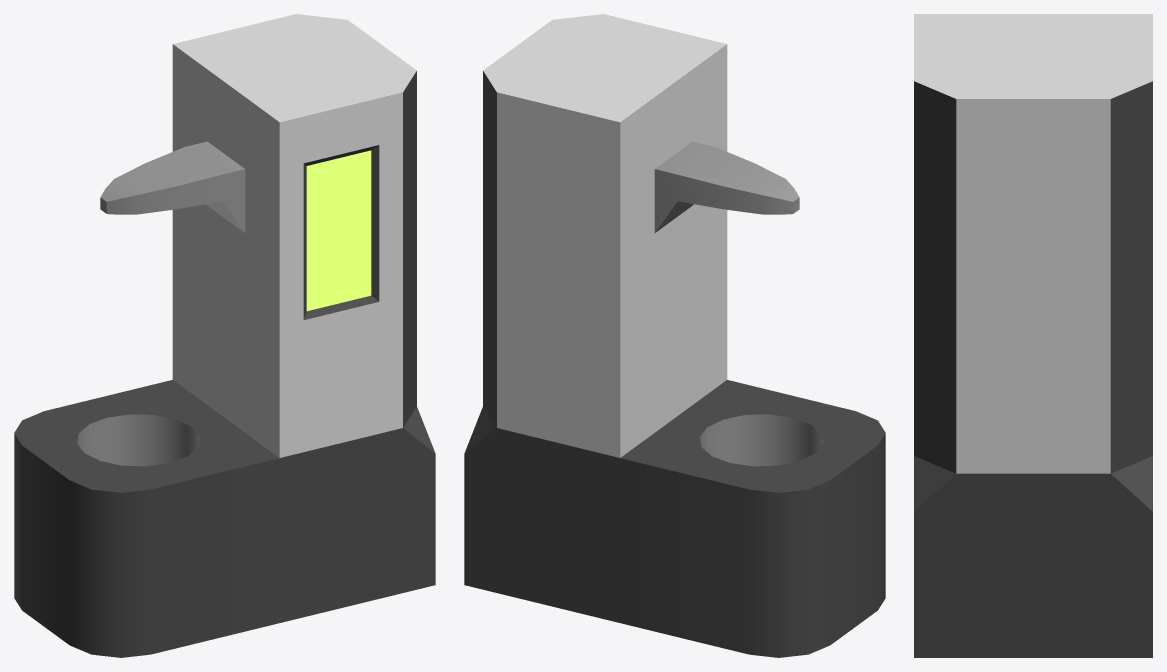
Rendered from Nuevo Cargador.fbx.
3 renders of one model, left to right at view 1: azimuth 30°, elevation 25°; view 2: azimuth 150°, elevation 25°; view 3: azimuth 270°, elevation 25°, orthographic. The views are drawn at different scales.
Parts seen in each view (by area): view 1: Cube; view 2: Cube; view 3: Cube.
Part boxes in pixels (x1,y1,x2,y2): Cube: (14,14,435,657); Cube: (464,14,885,657); Cube: (914,14,1152,657).
Size of the model in its own units: 97.04 by 138 by 53.45.
